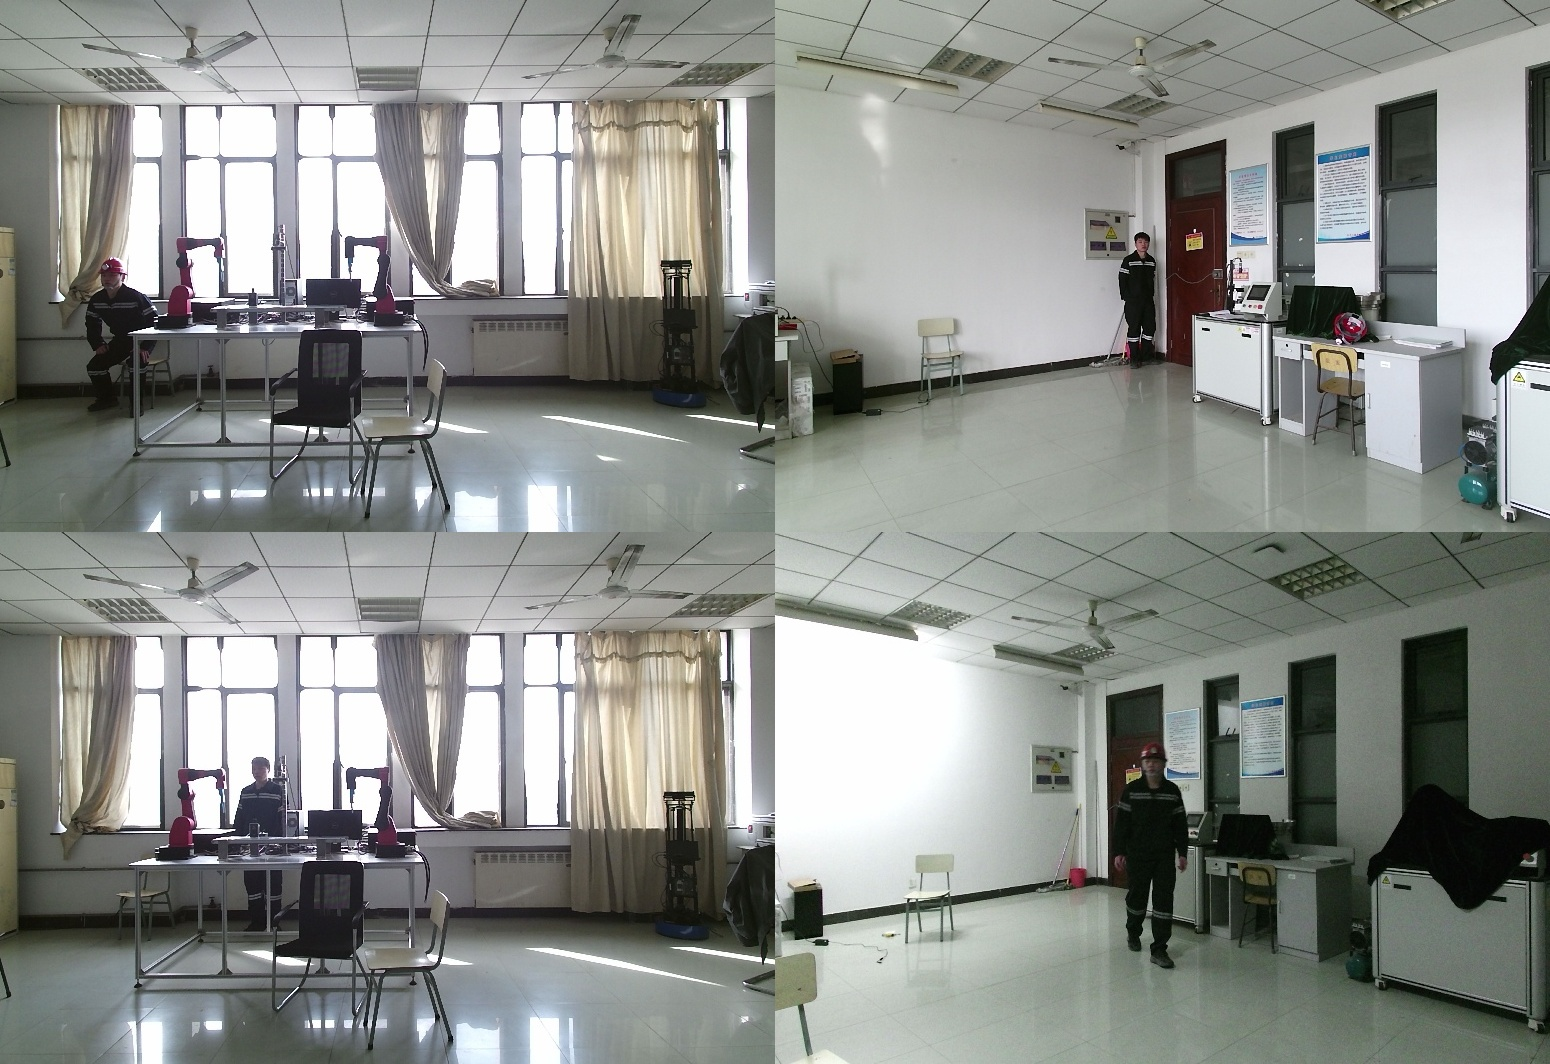person: (1111, 747, 1195, 967), (75, 259, 161, 413), (233, 758, 288, 941), (1119, 232, 1160, 372)
